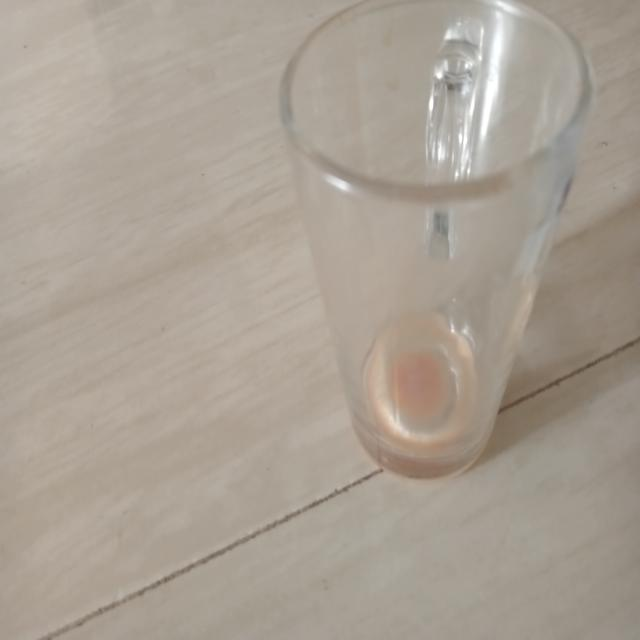glass-VX4N: (276, 4, 592, 482), (287, 554, 288, 556)
